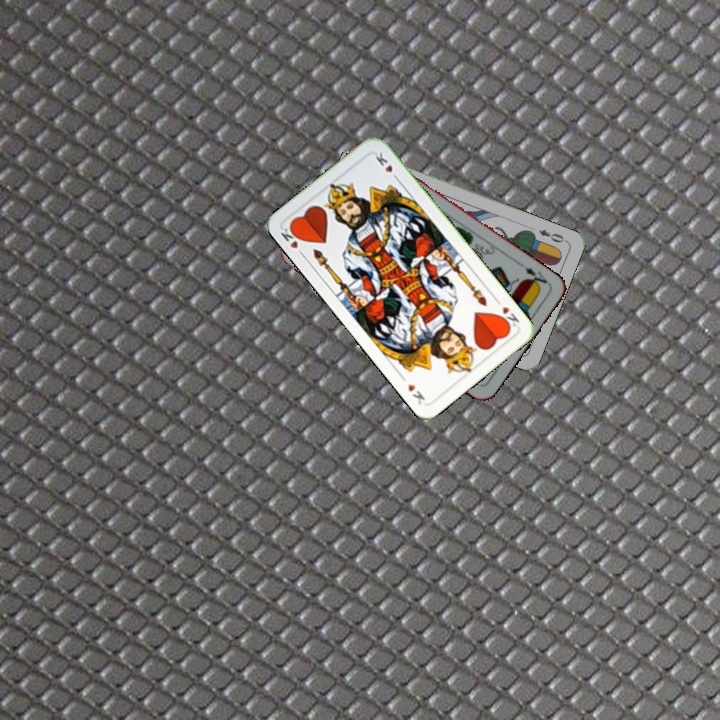EA: (521, 263, 550, 291)
EO: (535, 225, 570, 245)
HK: (276, 222, 307, 259), (495, 302, 522, 331)
